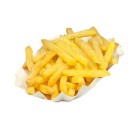frenchfries: (25, 19, 116, 93)
